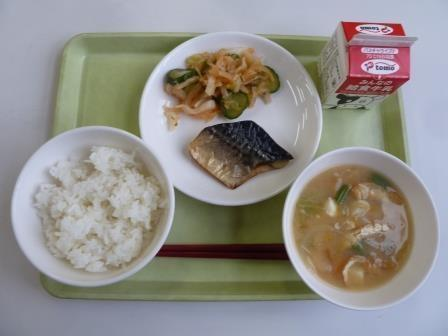Fish: (176, 116, 305, 188)
Milk: (317, 15, 432, 120)
Rice: (17, 134, 168, 279)
Salad: (161, 40, 287, 115)
Soups: (287, 159, 437, 307)
